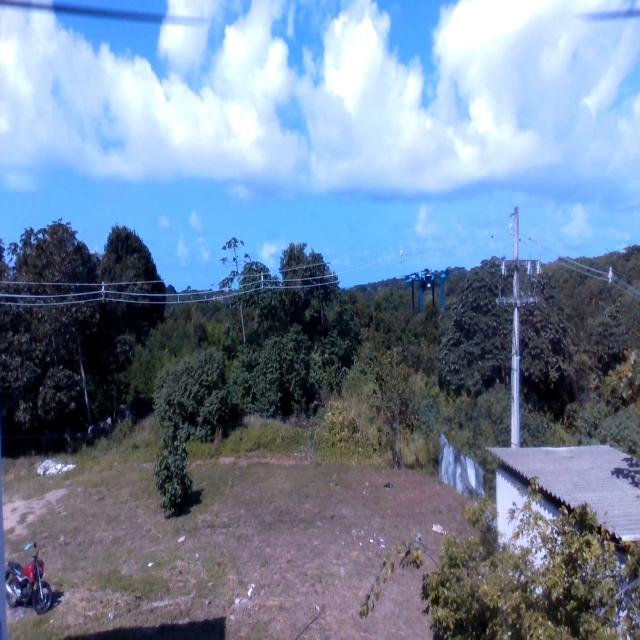-uav-: (398, 261, 458, 326)
